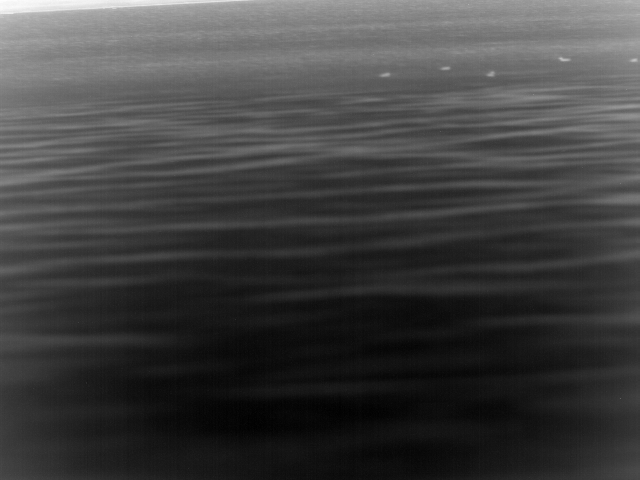dim target: (557, 55, 572, 62), (629, 56, 639, 63), (378, 72, 391, 77), (485, 70, 494, 77), (439, 65, 450, 70)
